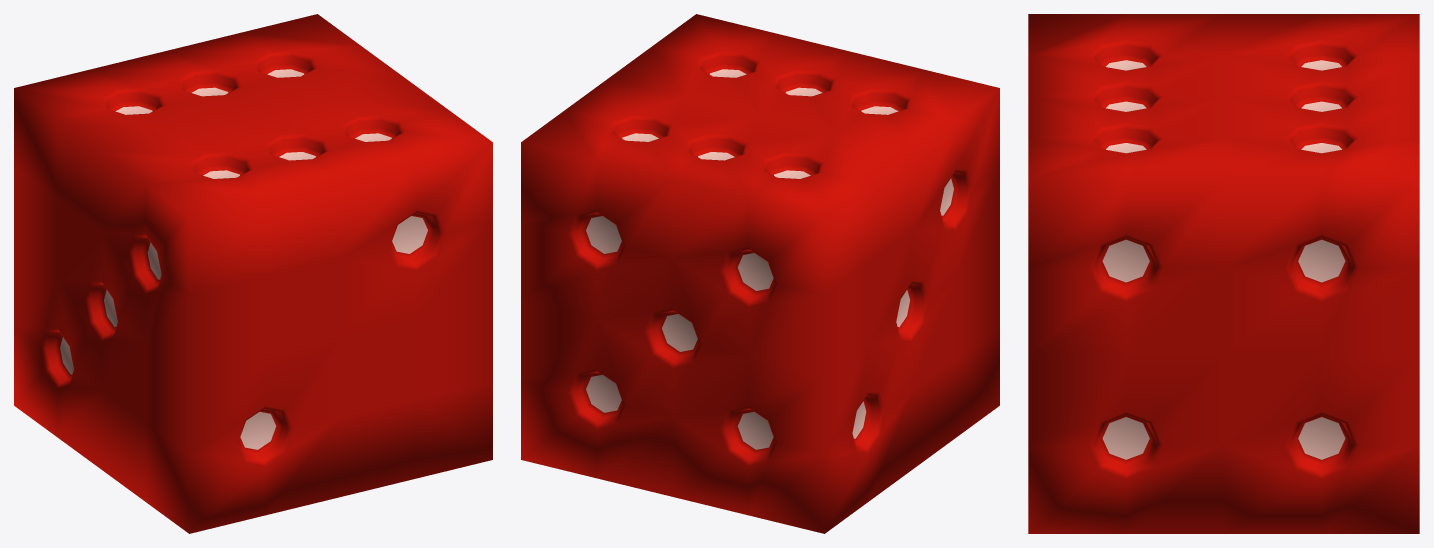
3 views of the same model, side by side, from view 1: azimuth 30°, elevation 25°; view 2: azimuth 150°, elevation 25°; view 3: azimuth 270°, elevation 25° (orthographic). The views are drawn at different scales.
Visible parts, largest first — view 1: Cube; view 2: Cube; view 3: Cube.
Boxes of the visible parts, <box> form: Cube: <box>14,14,492,533</box>; Cube: <box>521,14,999,533</box>; Cube: <box>1028,14,1419,533</box>.
Size of the model in its own units: 2 by 2 by 2.
